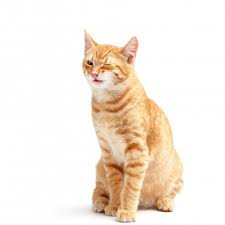Gato: (72, 22, 179, 197)
